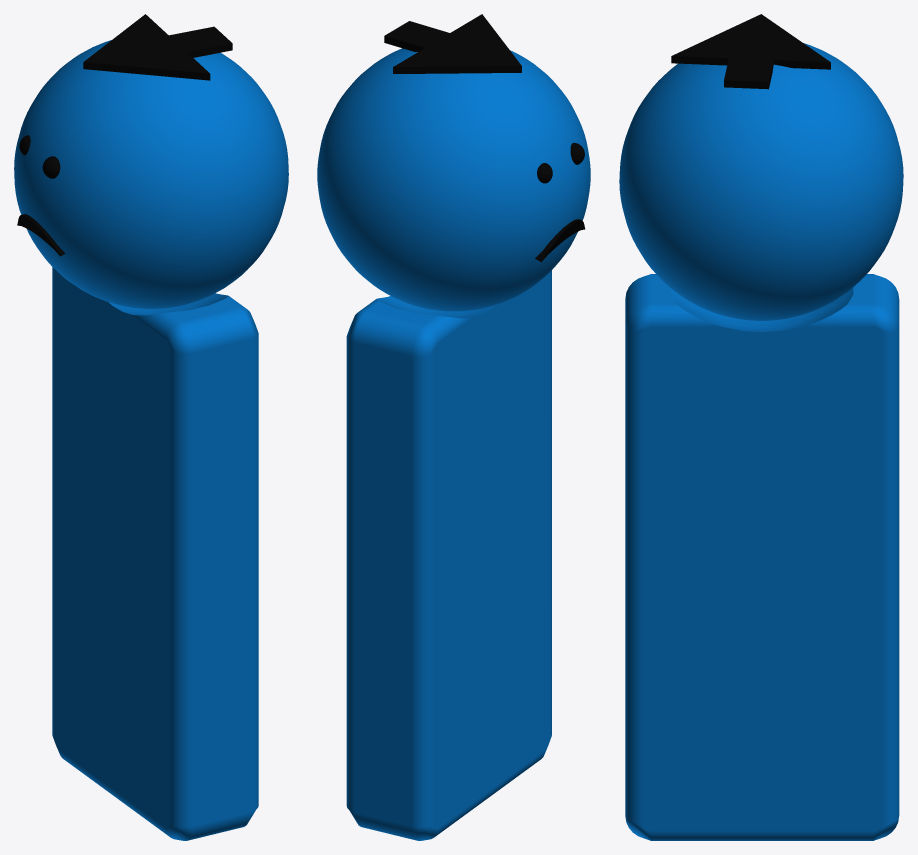
Rendered from blue_sad.obj.
3 renders of one model, left to right at view 1: azimuth 30°, elevation 25°; view 2: azimuth 150°, elevation 25°; view 3: azimuth 270°, elevation 25°, orthographic. The views are drawn at different scales.
Parts seen in each view (by area): view 1: 1_Curve.002_Curve.002, 5.002_Curve.002_Curve.003_5.002_Curve.002_Curve.001; view 2: 1_Curve.002_Curve.002, 5.002_Curve.002_Curve.003_5.002_Curve.002_Curve.001; view 3: 1_Curve.002_Curve.002, 5.002_Curve.002_Curve.003_5.002_Curve.002_Curve.001.
Part boxes in pixels (x1,y1,x2,y2): 1_Curve.002_Curve.002: [14, 40, 288, 840]; 5.002_Curve.002_Curve.003_5.002_Curve.002_Curve.001: [17, 14, 232, 256]; 1_Curve.002_Curve.002: [317, 48, 590, 840]; 5.002_Curve.002_Curve.003_5.002_Curve.002_Curve.001: [384, 14, 585, 261]; 1_Curve.002_Curve.002: [619, 43, 903, 840]; 5.002_Curve.002_Curve.003_5.002_Curve.002_Curve.001: [671, 14, 830, 89].
Bounding box in the file's own units: 0.1677 × 0.4993 × 0.1661.
